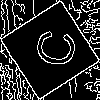C: (25, 25, 78, 70)
